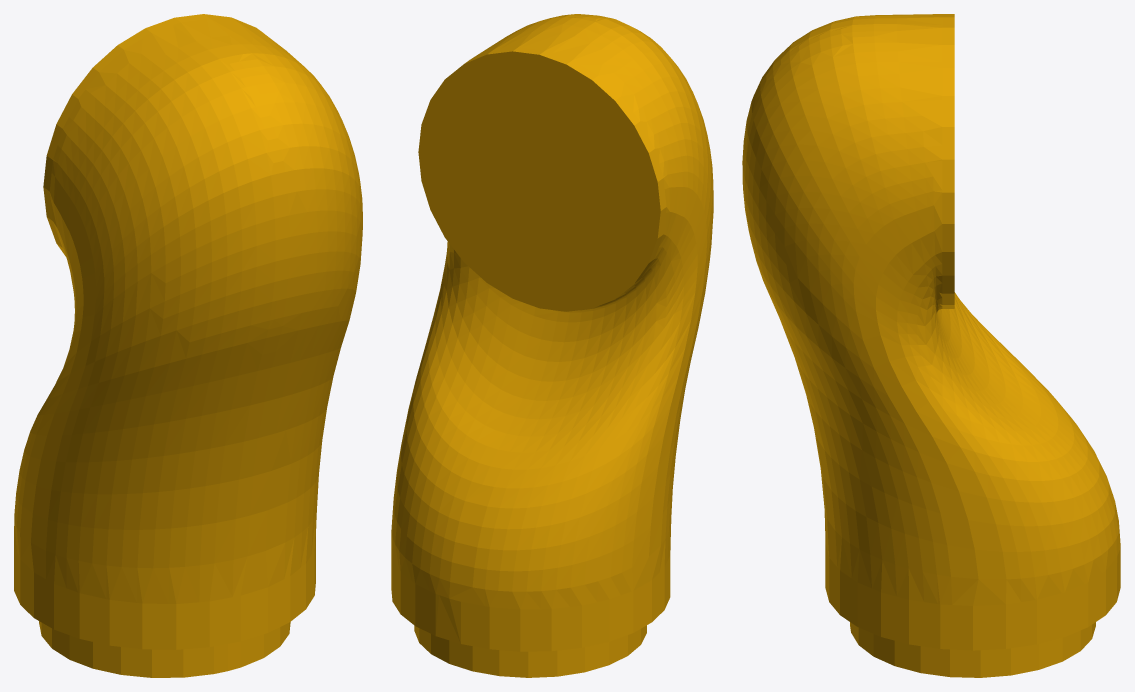
The picture shows the model from 3 angles, left to right: view 1: azimuth 30°, elevation 25°; view 2: azimuth 150°, elevation 25°; view 3: azimuth 270°, elevation 25°; orthographic projection. The views are drawn at different scales.
Parts seen in each view (by area): view 1: link_1; view 2: link_1; view 3: link_1.
Part boxes in pixels (box(x1,y1,x2,y2)): link_1: box(14, 14, 362, 677); link_1: box(391, 14, 713, 677); link_1: box(742, 14, 1120, 677).
Bounding box in the file's own units: 0.12 × 0.1538 × 0.2694.
